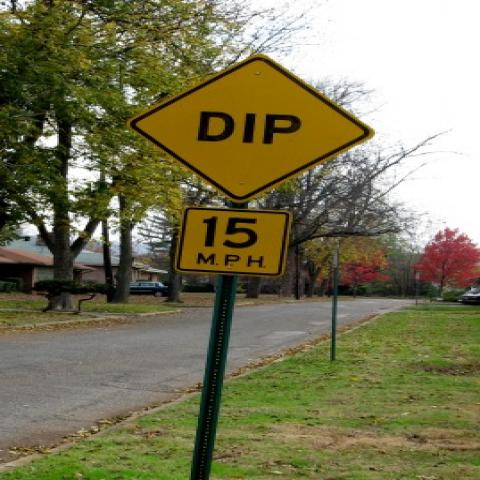car: (130, 282, 168, 297), (459, 287, 478, 305)
